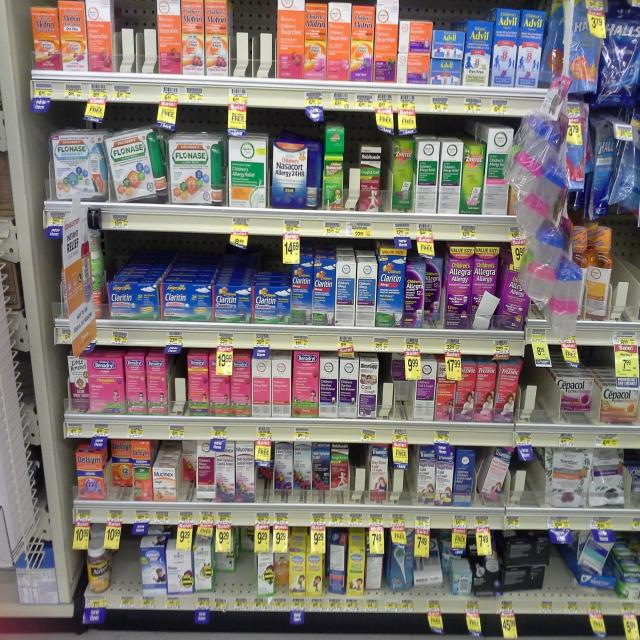void: (113, 556, 138, 602), (219, 570, 255, 598), (536, 376, 555, 424), (552, 556, 566, 602)
